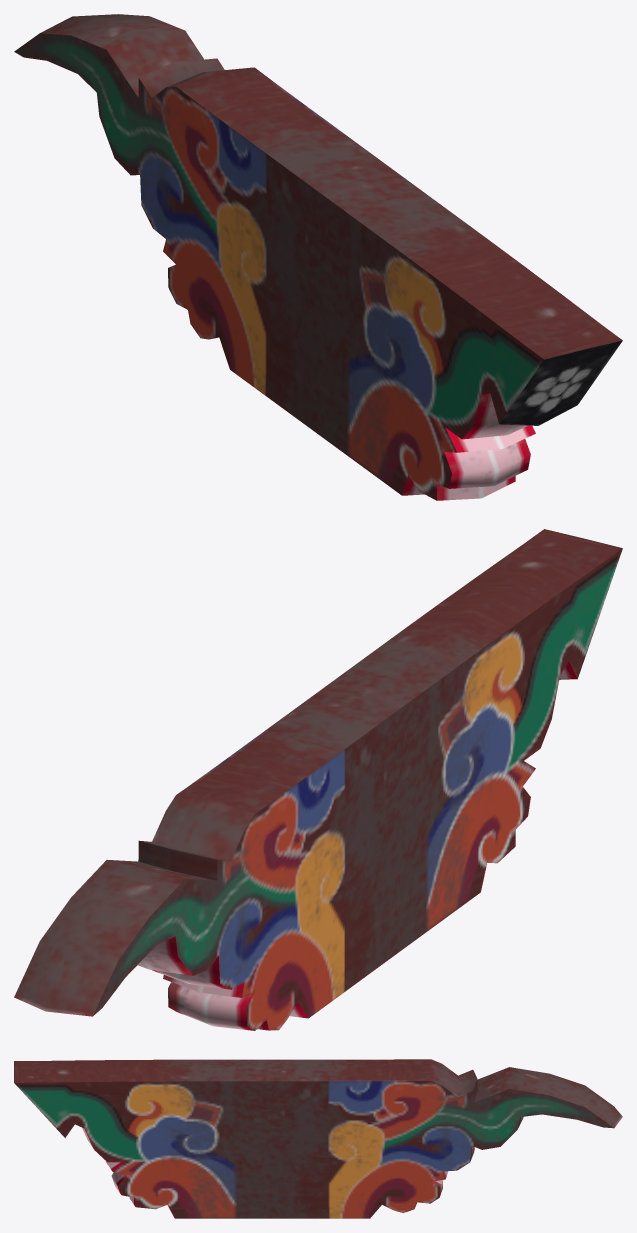
Rendered from SM_Gongpo01a.fbx.
3 views of the same model, one above another, from view 1: azimuth 30°, elevation 25°; view 2: azimuth 150°, elevation 25°; view 3: azimuth 270°, elevation 25° (orthographic). The views are drawn at different scales.
Visible parts, largest first — view 1: SM_Gongpo01a; view 2: SM_Gongpo01a; view 3: SM_Gongpo01a.
Part boxes in pixels (left/top/right/bottom): SM_Gongpo01a: left=14, top=14, right=622, bottom=500; SM_Gongpo01a: left=14, top=529, right=622, bottom=1030; SM_Gongpo01a: left=14, top=1059, right=622, bottom=1218.
Size of the model in its own units: 8.82 by 104 by 26.9.
1 material, 1 textured.
